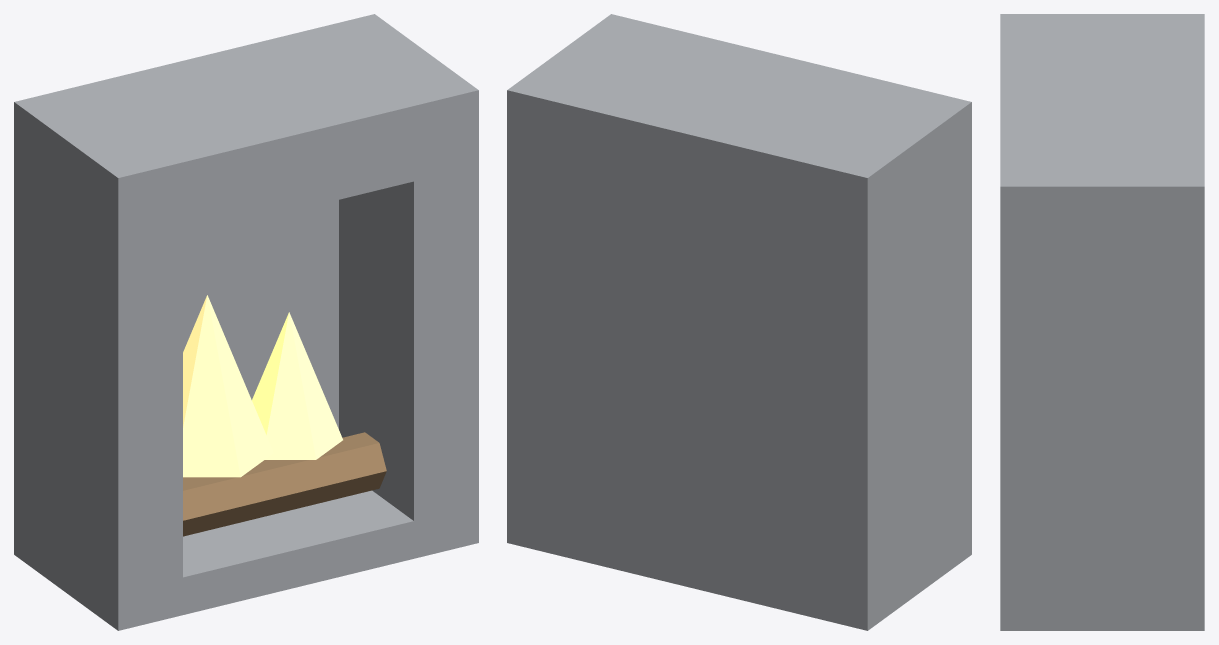
File: interior_fireplace.glb
3 views of the same model, side by side, from view 1: azimuth 30°, elevation 25°; view 2: azimuth 150°, elevation 25°; view 3: azimuth 270°, elevation 25° (orthographic).
Parts seen in each view (by area): view 1: mantel, pillar, pillar.001, back, hearth, flame_a, flame_b, log_1, log_0; view 2: back, mantel, pillar, pillar.001, hearth; view 3: pillar.001, mantel, back, hearth.
Part boxes in pixels (left/top/right/bottom): mantel: left=14, top=14, right=478, bottom=253; pillar: left=14, top=159, right=182, bottom=609; pillar.001: left=339, top=147, right=478, bottom=539; back: left=14, top=140, right=338, bottom=537; hearth: left=14, top=490, right=478, bottom=630; flame_a: left=183, top=295, right=273, bottom=477; flame_b: left=252, top=312, right=342, bottom=459; log_1: left=217, top=432, right=386, bottom=527; log_0: left=183, top=460, right=317, bottom=536; back: left=507, top=128, right=896, bottom=593; mantel: left=507, top=14, right=971, bottom=253; pillar: left=804, top=159, right=971, bottom=611; pillar.001: left=507, top=147, right=571, bottom=539; hearth: left=507, top=508, right=971, bottom=630; pillar.001: left=1000, top=242, right=1204, bottom=612; mantel: left=1000, top=14, right=1204, bottom=260; back: left=1147, top=223, right=1204, bottom=593; hearth: left=1000, top=594, right=1204, bottom=630.
Bounding box in the file's own units: 1 × 1.2 × 0.5.
